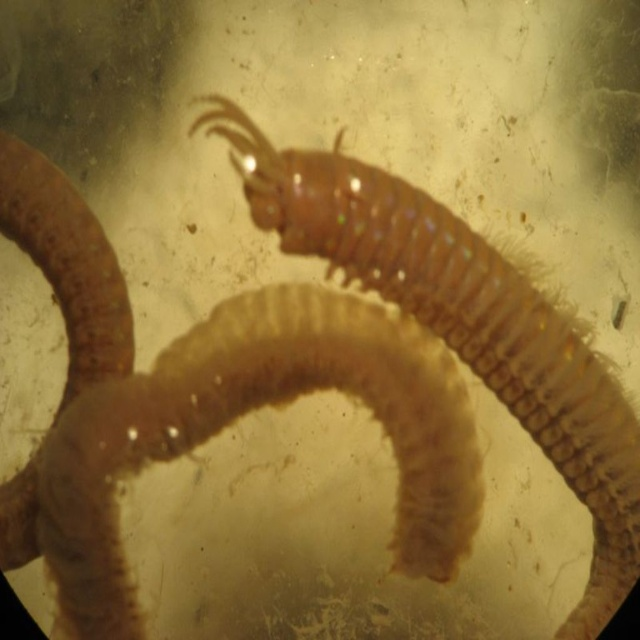Centipede: (187, 94, 640, 640), (35, 281, 486, 640), (0, 126, 135, 573)
